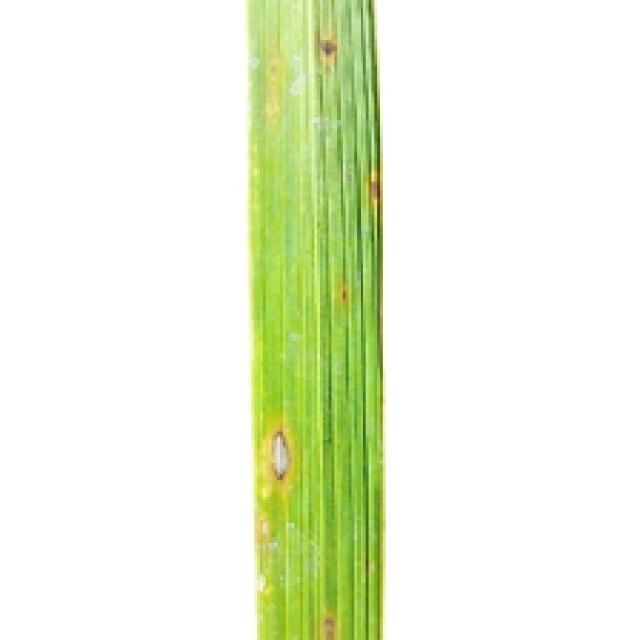Rice___Rice_Blast: (243, 0, 384, 637)
